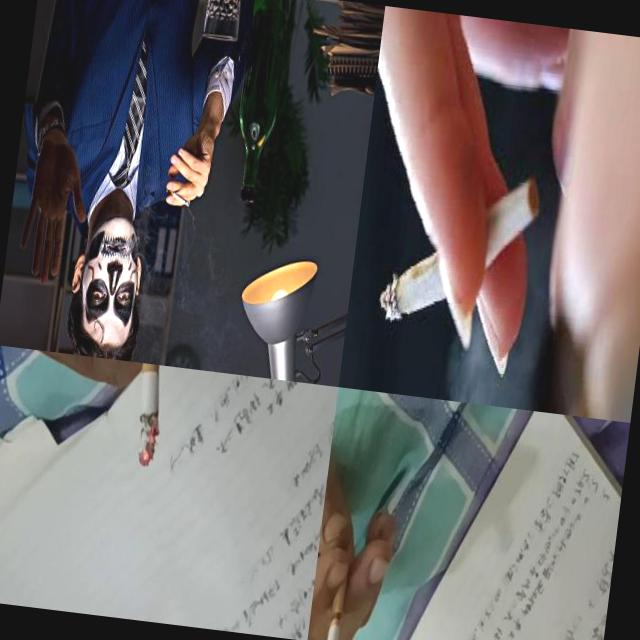smoke: (377, 162, 540, 337), (124, 363, 166, 469), (322, 552, 351, 640), (163, 186, 192, 207)
